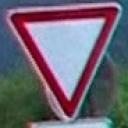preferencia: (8, 3, 119, 117)
